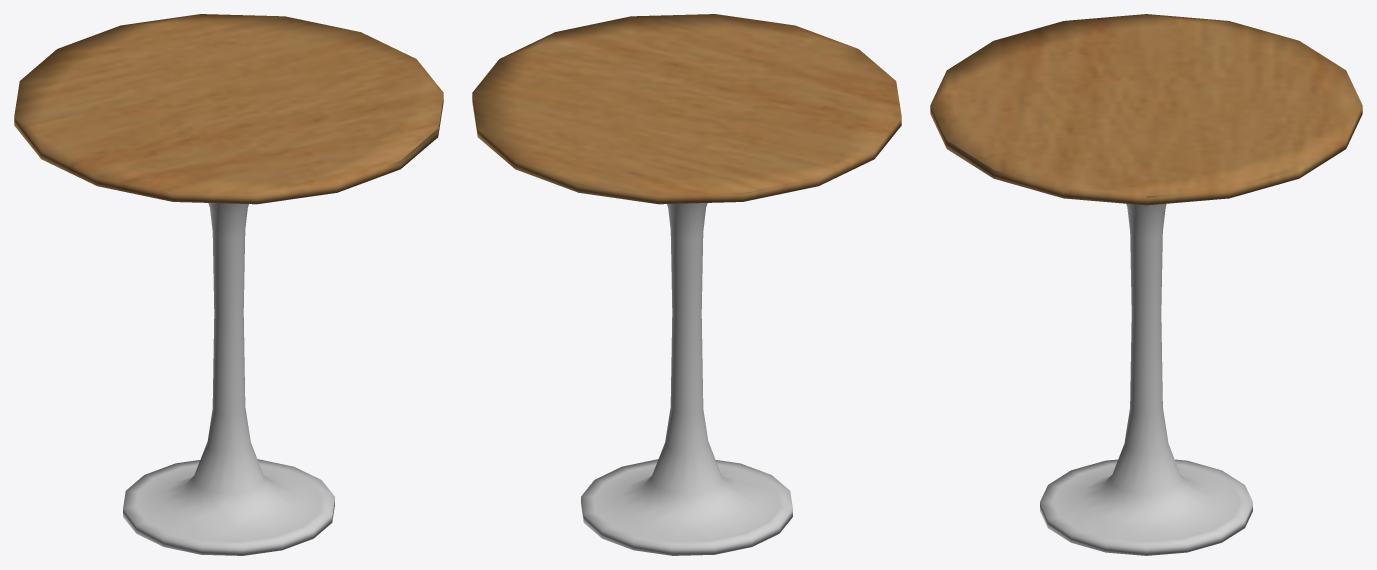
The model's file is table.fbx.
3 views of the same model, side by side, from view 1: azimuth 30°, elevation 25°; view 2: azimuth 150°, elevation 25°; view 3: azimuth 270°, elevation 25° (orthographic).
Parts seen in each view (by area): view 1: Table; view 2: Table; view 3: Table.
Boxes of the visible parts, x1=… form: Table: x1=14, y1=14, x2=443, y2=555; Table: x1=472, y1=14, x2=901, y2=555; Table: x1=930, y1=14, x2=1362, y2=555.
Size of the model in its own units: 0.5074 by 0.5252 by 0.5074.
